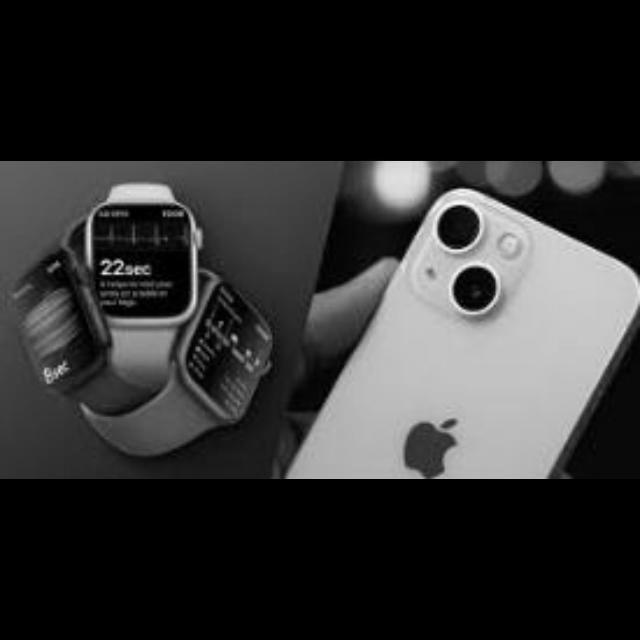fake: (384, 146, 616, 516)
